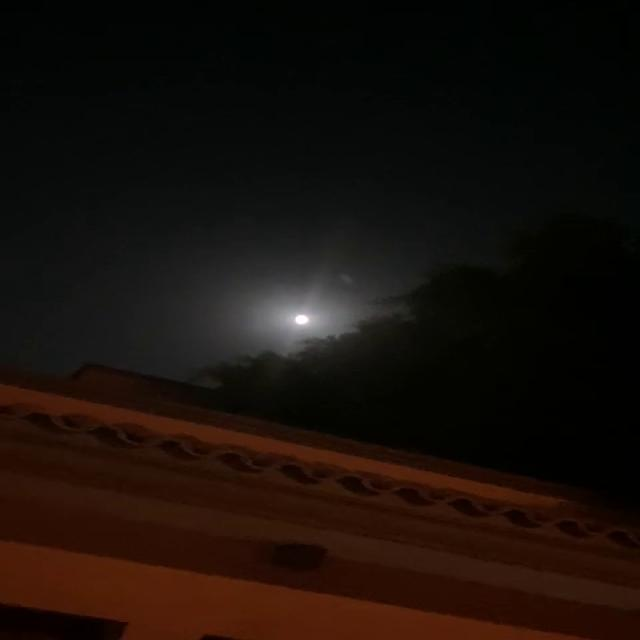moon: (273, 306, 328, 333)
